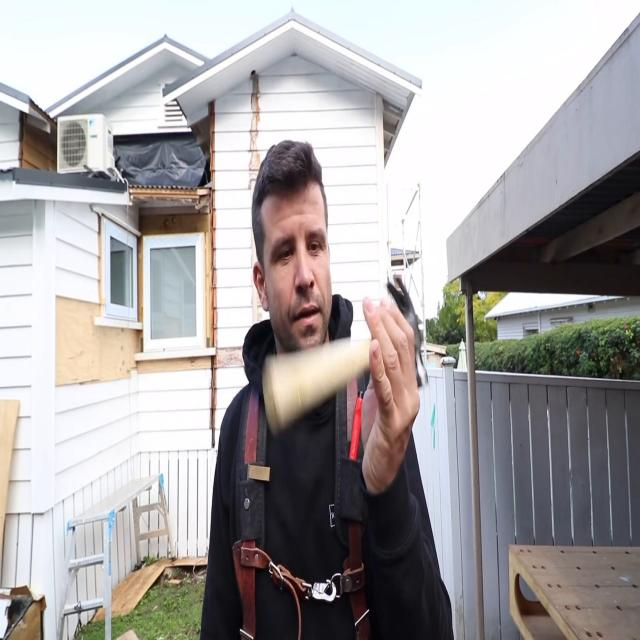hammer: (263, 275, 422, 435)
